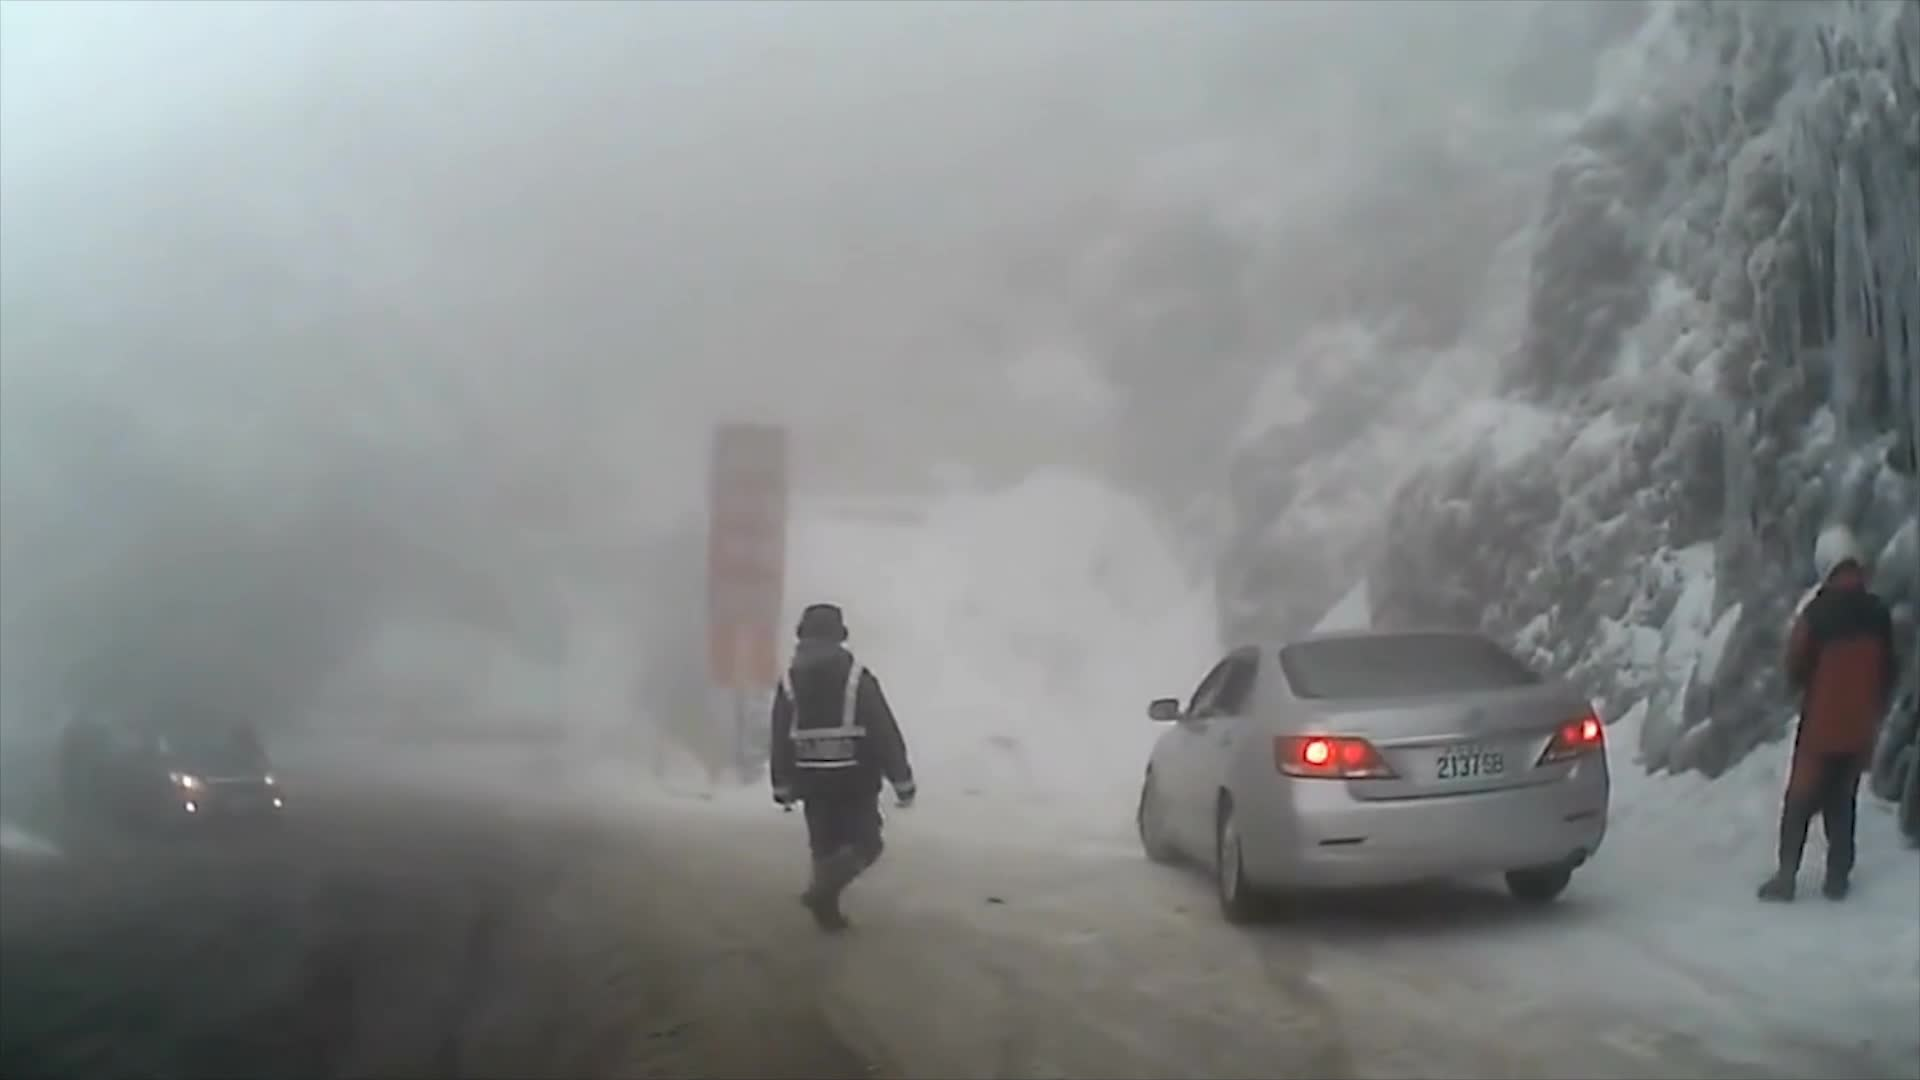pedestrian: (771, 604, 926, 943), (1765, 532, 1892, 907)
vehicle: (1135, 626, 1610, 924), (82, 702, 286, 837)
